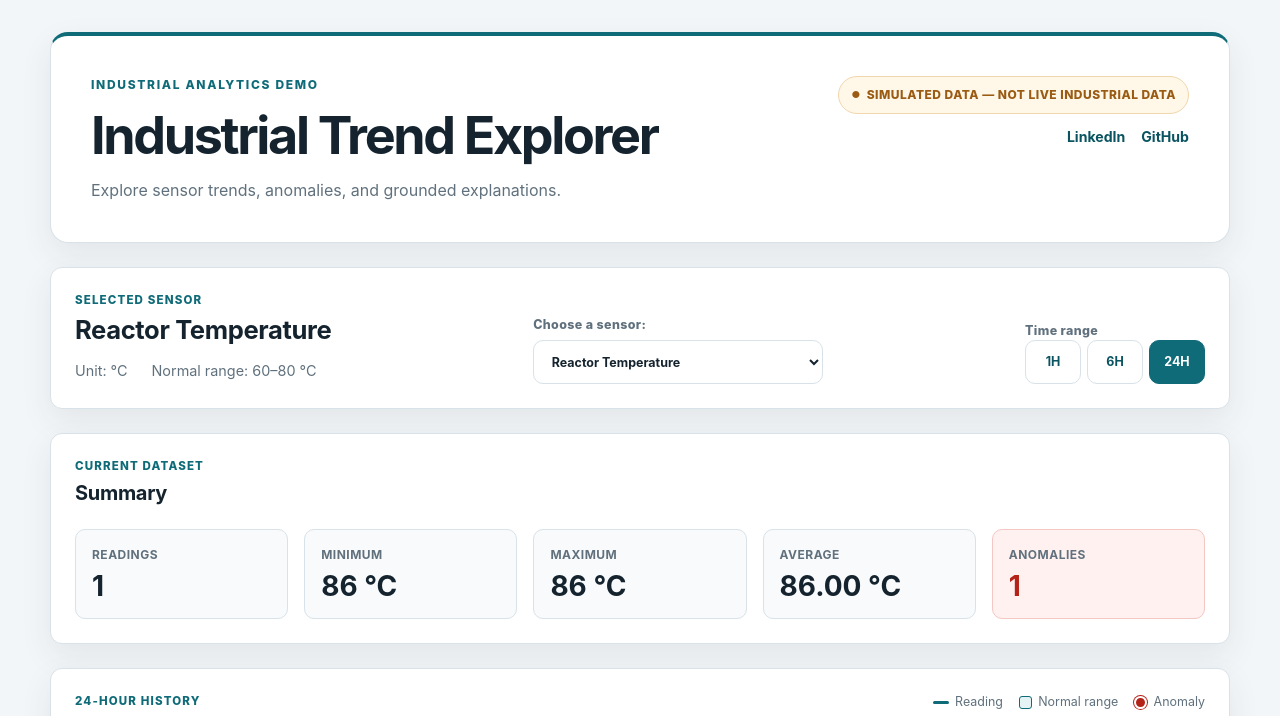
clears the old trend and shows loading when the sensor changes
The width and height of the screenshot is (1280, 716).
expect the heading "Summary" is shown: met, box [75, 481, 167, 505]
Select "Pump Pressure" in the dropdown labelled "Choose a sensor:" at (678, 362), box [533, 340, 823, 384]
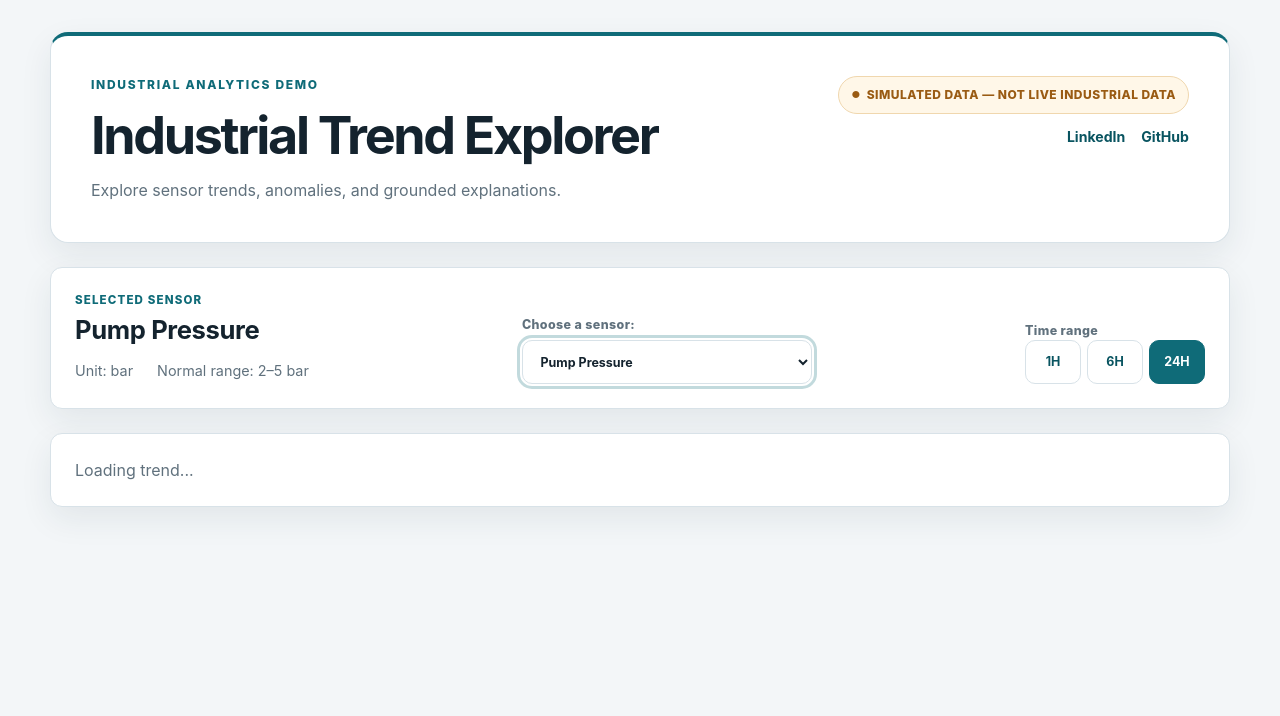
expect the text "Loading trend..." is shown: met, box [50, 434, 1230, 508]
expect the heading "Summary" is gone: met
